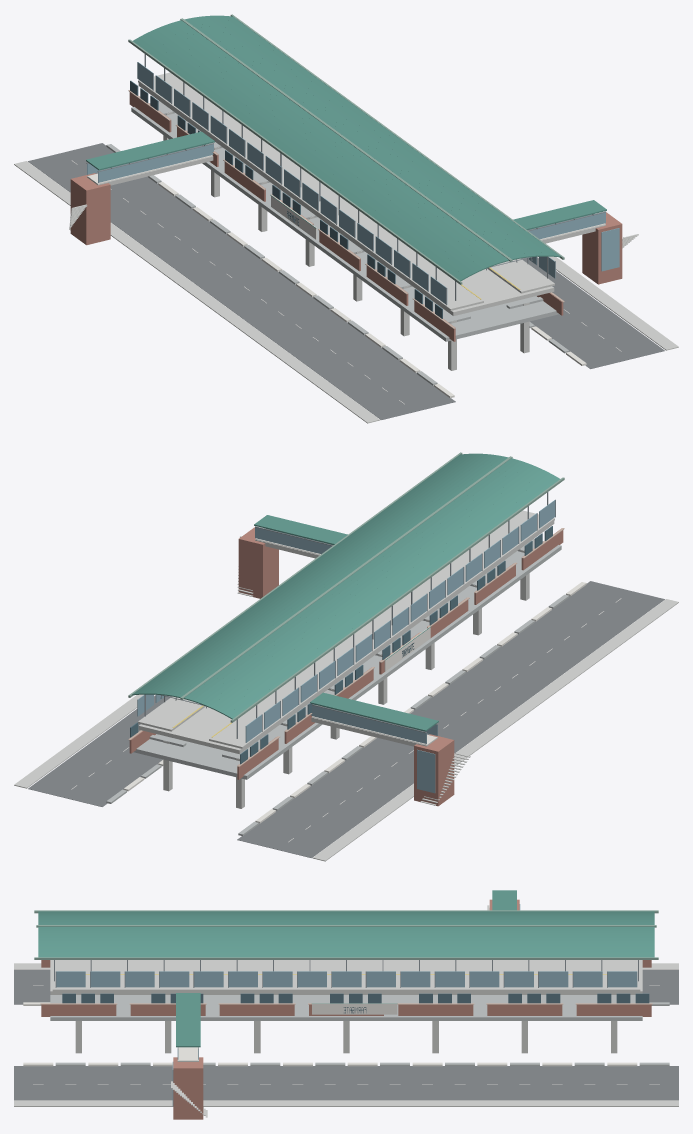
The model's file is farmgate-landmark.gltf.
3 views of the same model, one above another, from view 1: azimuth 30°, elevation 25°; view 2: azimuth 150°, elevation 25°; view 3: azimuth 270°, elevation 25° (orthographic). The views are drawn at different scales.
Parts seen in each view (by area): view 1: Farmgate original detailed station landmark; view 2: Farmgate original detailed station landmark; view 3: Farmgate original detailed station landmark.
Part boxes in pixels (x1,y1,x2,y2): Farmgate original detailed station landmark: (14, 14, 678, 423); Farmgate original detailed station landmark: (14, 452, 678, 861); Farmgate original detailed station landmark: (14, 890, 678, 1119).
Size of the model in its own units: 107 by 29.91 by 164.
